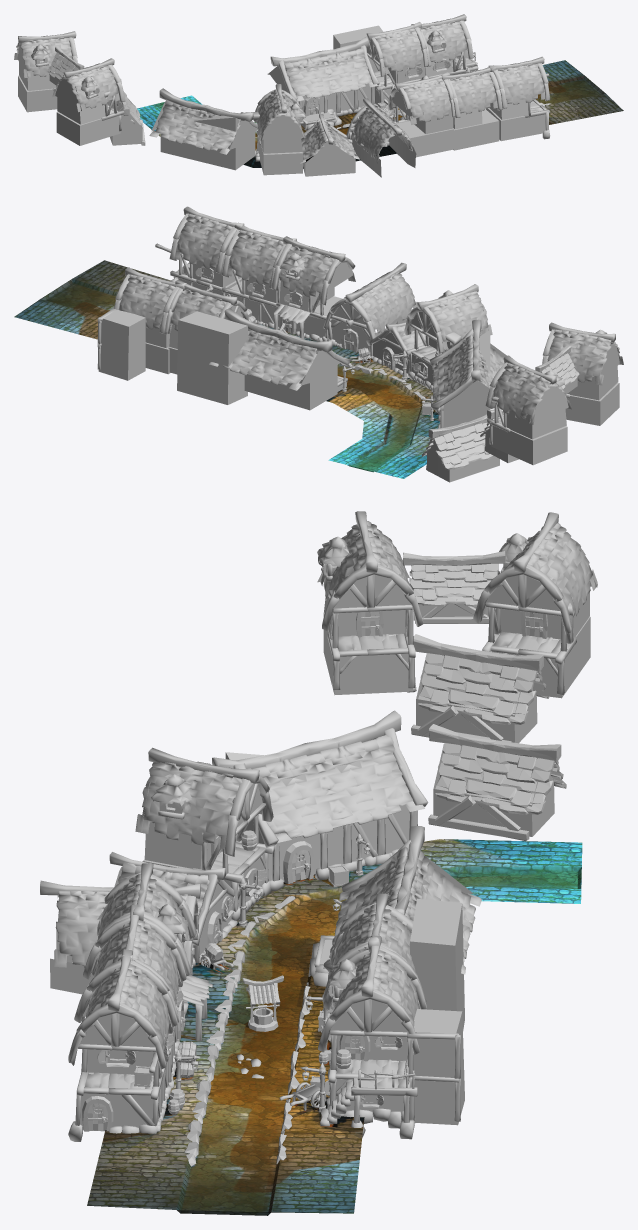
File: Main_Scene_Meshes.FBX
3 renders of one model, top to bottom at view 1: azimuth 30°, elevation 25°; view 2: azimuth 150°, elevation 25°; view 3: azimuth 270°, elevation 25°, orthographic. The views are drawn at different scales.
Parts seen in each view (by area): view 1: Main_Menu_Part_1, Main_Menu_Part_2, Ground_To_Bake; view 2: Main_Menu_Part_1, Main_Menu_Part_2, Ground_To_Bake; view 3: Main_Menu_Part_2, Main_Menu_Part_1, Ground_To_Bake.
Part boxes in pixels (bbox=[...]): Main_Menu_Part_1: bbox=[267, 14, 551, 167]; Main_Menu_Part_2: bbox=[14, 31, 416, 177]; Ground_To_Bake: bbox=[137, 60, 623, 168]; Main_Menu_Part_1: bbox=[97, 206, 355, 410]; Main_Menu_Part_2: bbox=[279, 262, 623, 482]; Ground_To_Bake: bbox=[14, 260, 439, 478]; Main_Menu_Part_2: bbox=[40, 511, 597, 1031]; Main_Menu_Part_1: bbox=[50, 826, 481, 1166]; Ground_To_Bake: bbox=[87, 839, 582, 1215].
Size of the model in its own units: 965 by 213 by 466.
